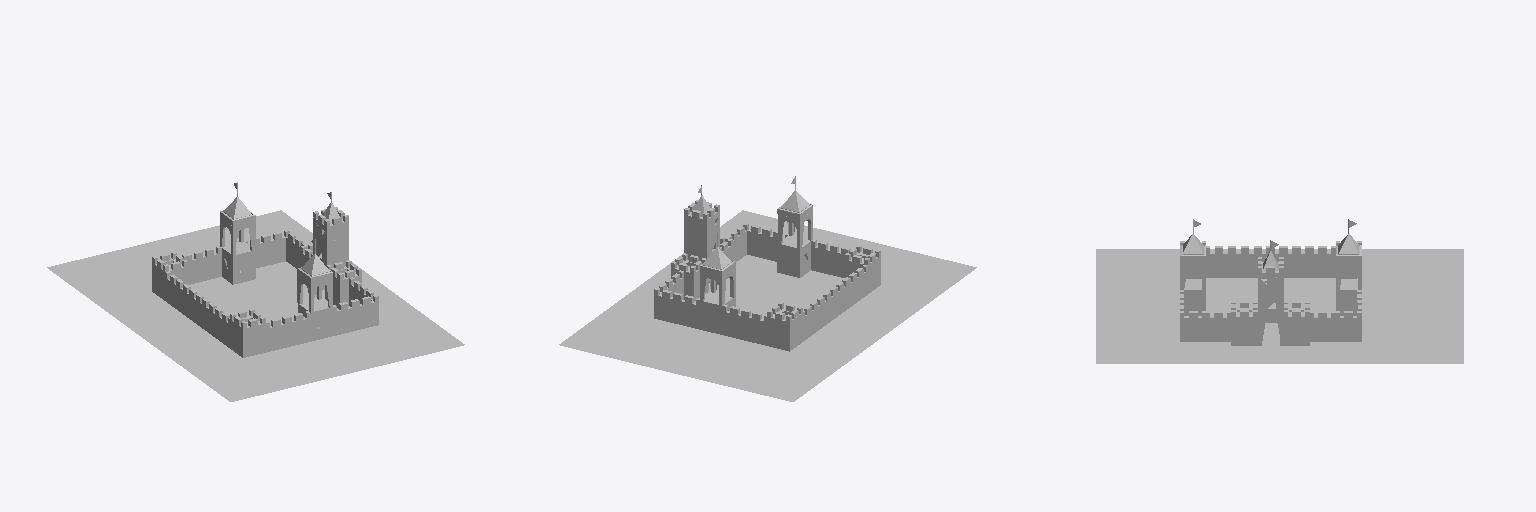
File: Castle_2.obj
3 views of the same model, side by side, from view 1: azimuth 30°, elevation 25°; view 2: azimuth 150°, elevation 25°; view 3: azimuth 270°, elevation 25° (orthographic).
Visible parts, largest first — view 1: Plane.000_Plane.002, Cube.144_House_2.001; view 2: Plane.000_Plane.002, Cube.144_House_2.001; view 3: Plane.000_Plane.002, Cube.144_House_2.001.
Boxes of the visible parts, x1=… form: Plane.000_Plane.002: x1=47, y1=210, x2=464, y2=401; Cube.144_House_2.001: x1=152, y1=182, x2=378, y2=357; Plane.000_Plane.002: x1=559, y1=210, x2=976, y2=401; Cube.144_House_2.001: x1=654, y1=176, x2=880, y2=351; Plane.000_Plane.002: x1=1096, y1=249, x2=1463, y2=363; Cube.144_House_2.001: x1=1180, y1=219, x2=1361, y2=345.
Bounding box in the file's own units: 9.05 × 3.71 × 12.31.